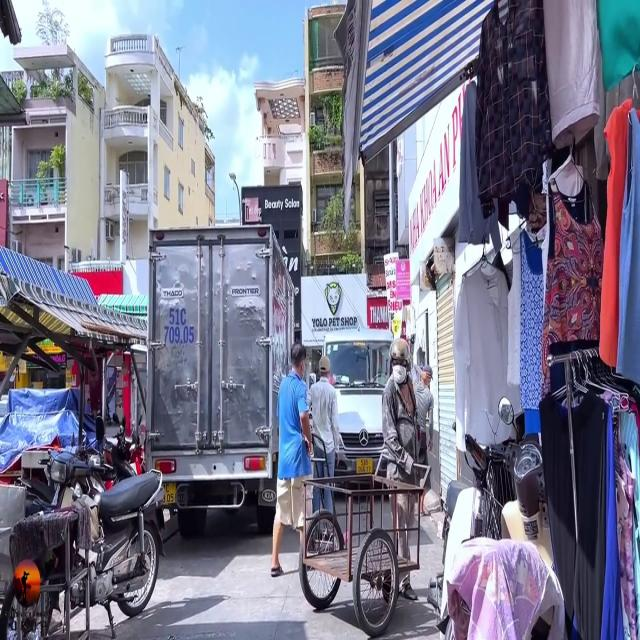bien_vang: (357, 452, 373, 473)
